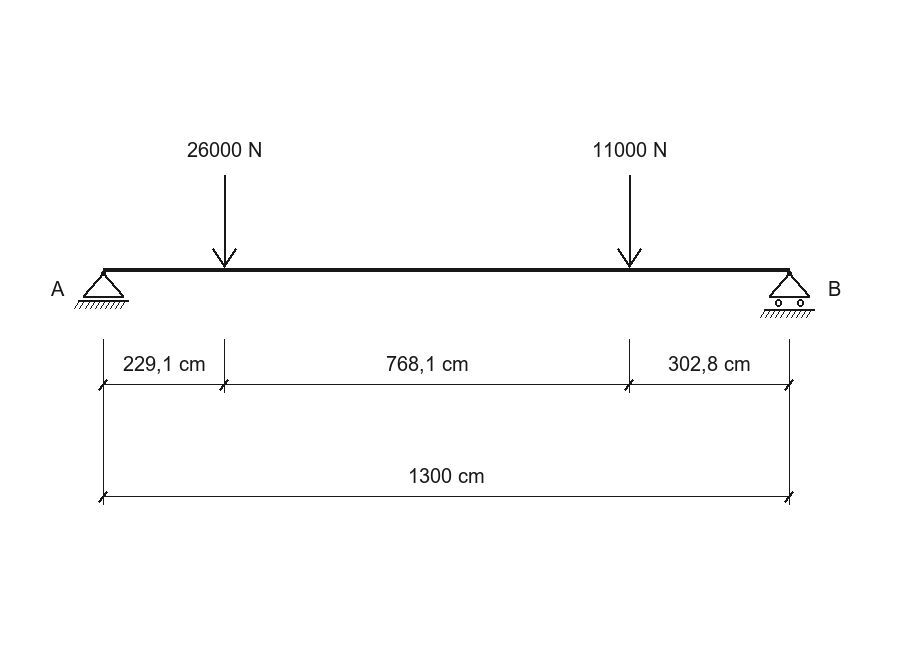pin_support: (74, 271, 129, 309)
point_load: (212, 175, 237, 268), (617, 175, 642, 268)
roller_support: (760, 271, 815, 318)
